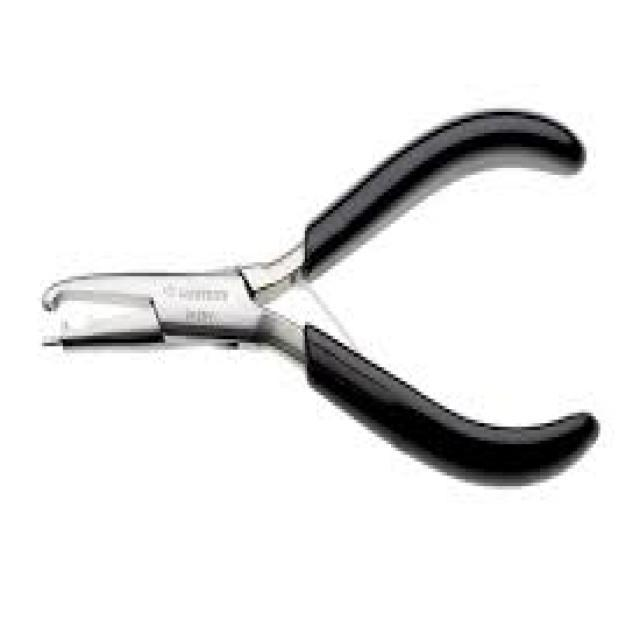pliers: (34, 91, 604, 487)
